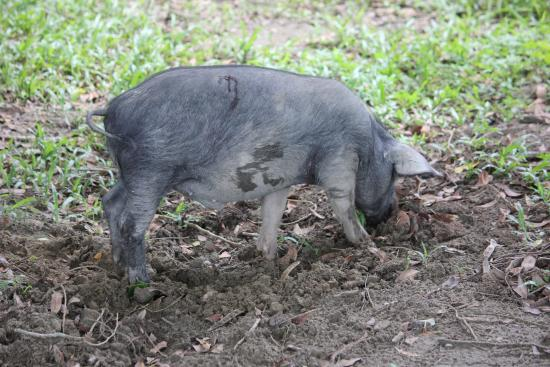boar: (80, 54, 441, 293)
